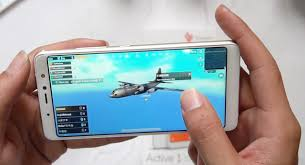vsmart: (33, 40, 242, 140)
